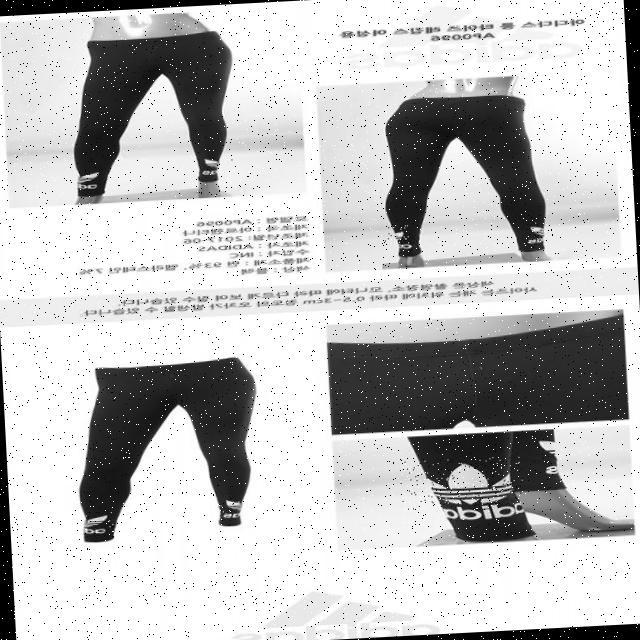Adidas: (400, 456, 524, 511), (46, 164, 105, 188), (70, 510, 121, 531), (192, 151, 233, 173), (216, 494, 250, 515), (381, 223, 410, 245), (524, 222, 548, 239)
